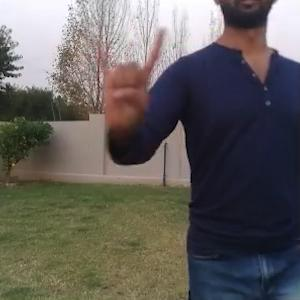takeoff-hand: (86, 24, 167, 137)
